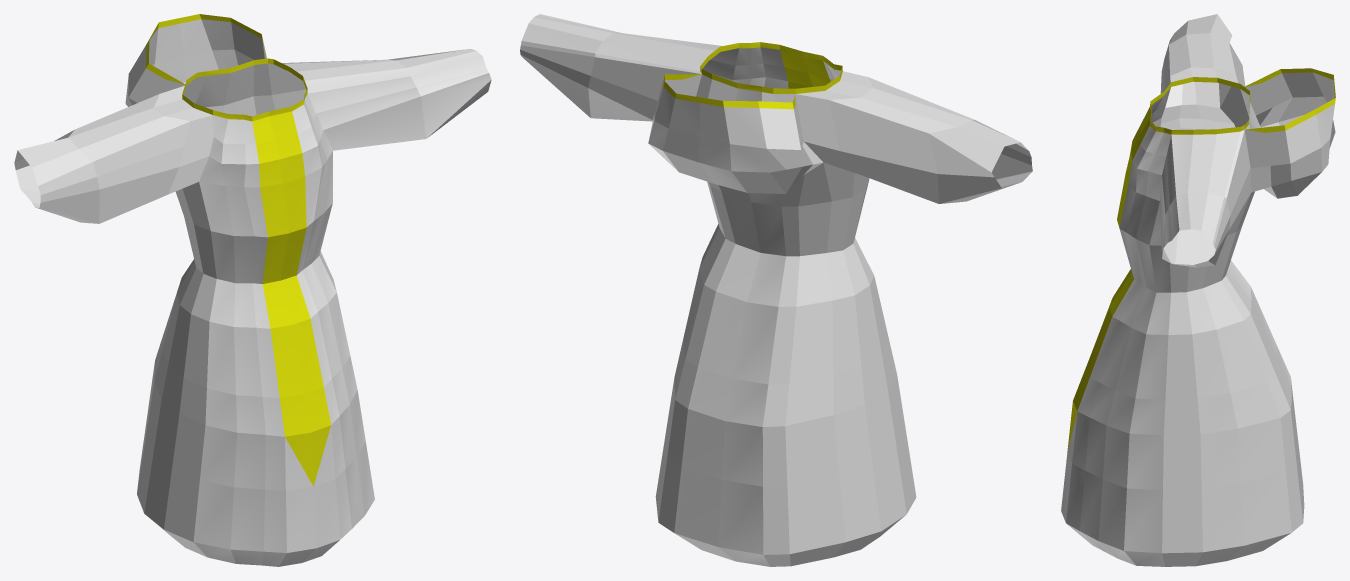
File: chest-healer.glb
The picture shows the model from 3 angles, left to right: view 1: azimuth 30°, elevation 25°; view 2: azimuth 150°, elevation 25°; view 3: azimuth 270°, elevation 25°; orthographic projection. The views are drawn at different scales.
Parts seen in each view (by area): view 1: chest-healer; view 2: chest-healer; view 3: chest-healer.
Part boxes in pixels (box(x1,y1,x2,y2)): chest-healer: box(14, 14, 491, 566); chest-healer: box(520, 14, 1032, 566); chest-healer: box(1061, 14, 1335, 566).
Size of the model in its own units: 1.45 by 1.4 by 0.7746.
1 material, 1 textured.
